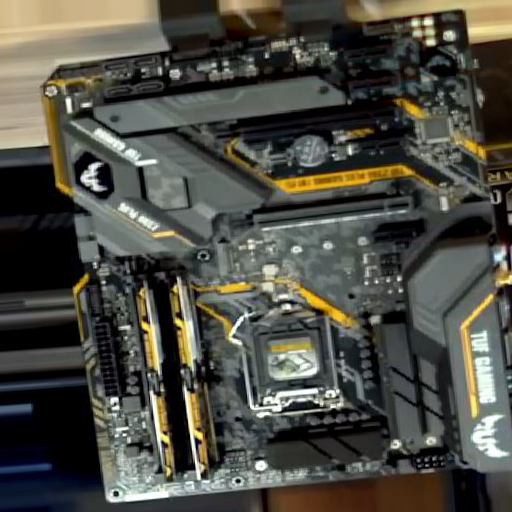CPU: (249, 297, 343, 416)
GPU: (220, 195, 415, 236), (206, 101, 398, 141)
MOTHERBOARD: (76, 10, 512, 505)
RAM: (122, 267, 222, 475)
SSD: (213, 239, 236, 278)
